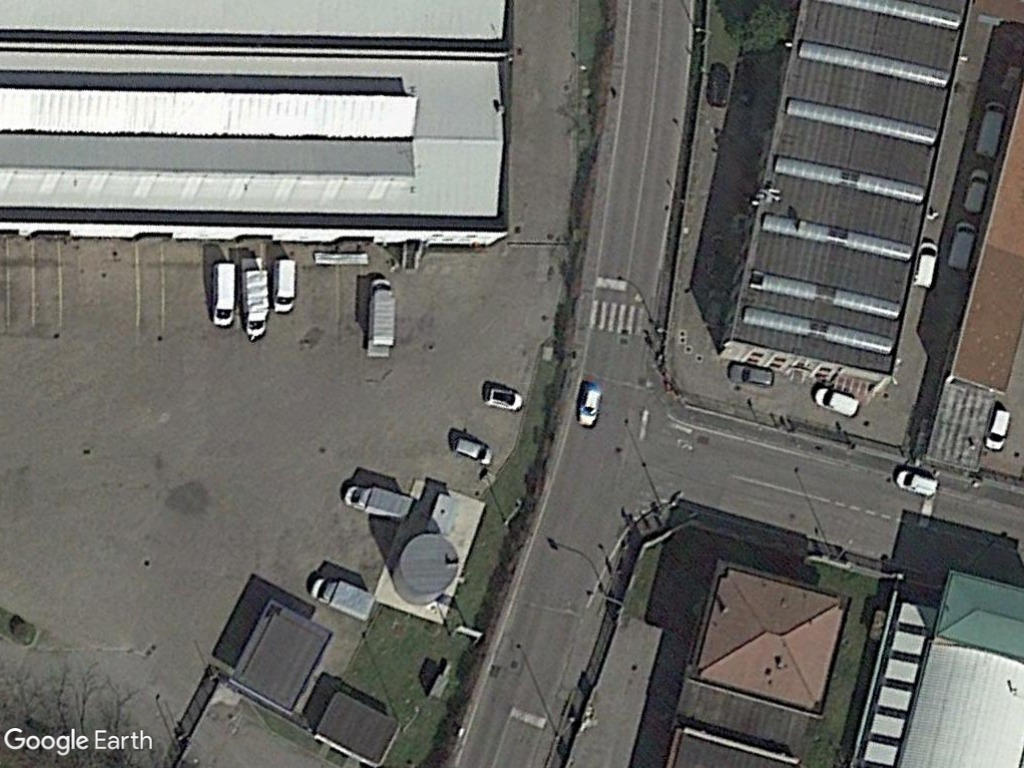car: (726, 360, 778, 392), (477, 381, 528, 413), (449, 433, 496, 467), (575, 384, 604, 432)
truck: (304, 572, 379, 626), (341, 481, 418, 526), (363, 273, 400, 362)
van: (238, 255, 269, 346), (207, 258, 241, 329), (973, 98, 1009, 162), (808, 382, 864, 420), (267, 253, 298, 317), (890, 464, 944, 499), (948, 217, 979, 276), (981, 405, 1016, 455), (911, 237, 942, 291), (963, 166, 992, 218)
